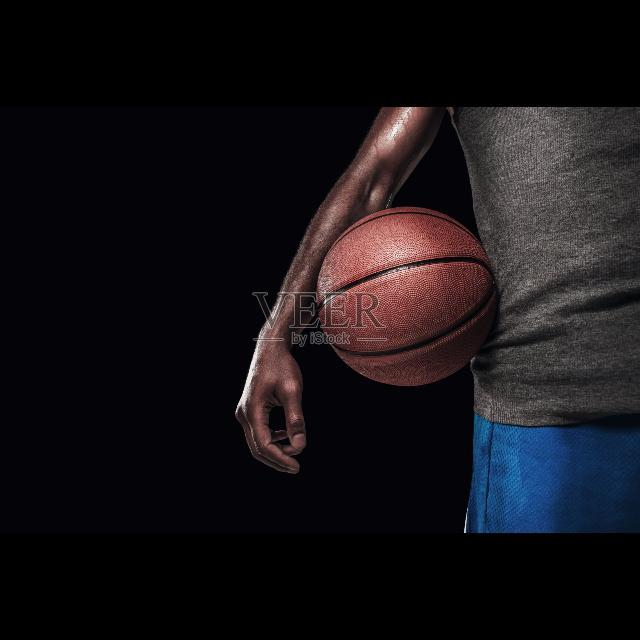basketball: (317, 206, 498, 386)
